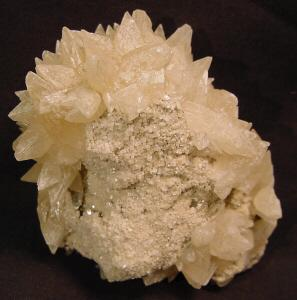calcite: (9, 10, 282, 288)
